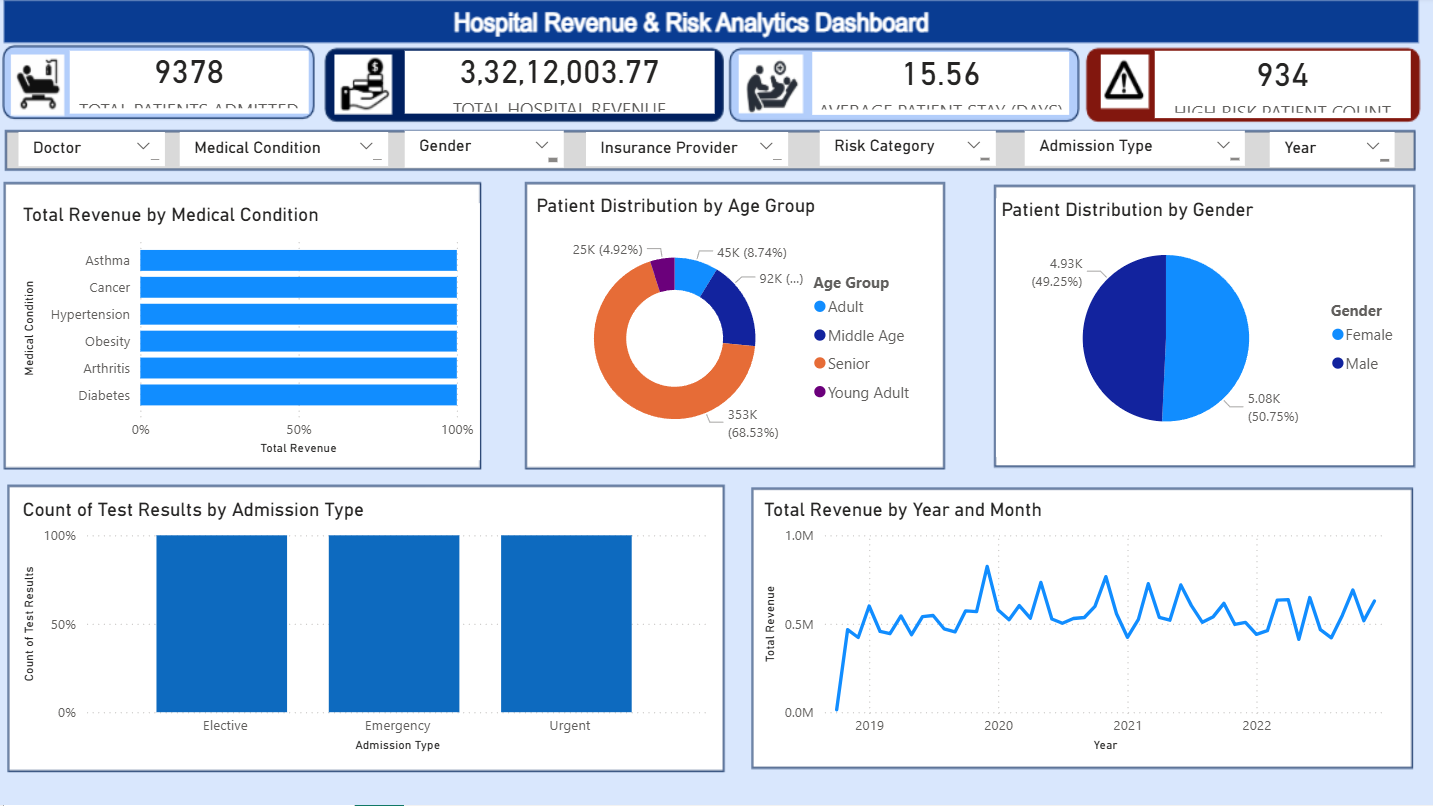

The page's visual inventory and layout, read from the dashboard file:
{"tool":"powerbi","page":{"name":" Hospital Revenue & Risk Analytics Project _Dashboard","canvas":[1280,720],"ordinal":0},"visuals":[{"type":"card","fields":{"Values":["Count(Hospital_cleaned_dataset.  Name)"]},"box":[65.9,48,212.7,56.3],"z":0},{"type":"card","fields":{"Values":["Sum(Hospital_cleaned_dataset. Revenue Per Day)"]},"box":[363.6,48,275.8,56.3],"z":1000},{"type":"card","fields":{"Values":["Avg(Hospital_cleaned_dataset. Length of Stay)"]},"box":[727.3,49.4,229.2,56.3],"z":2000},{"type":"card","fields":{"Values":["Count(Hospital_cleaned_dataset)"]},"box":[1031.9,48,227.8,60.4],"z":3000},{"type":"slicer","fields":{"Values":["Hospital_cleaned_dataset.Doctor"]},"box":[20.6,120.8,130.4,30.2],"z":4000},{"type":"slicer","fields":{"Values":["Hospital_cleaned_dataset.Medical Condition"]},"box":[163.3,120.8,185.2,30.2],"z":5000},{"type":"slicer","fields":{"Values":["Hospital_cleaned_dataset.Gender"]},"box":[363.6,119.4,141.3,32.9],"z":6000},{"type":"slicer","fields":{"Values":["Hospital_cleaned_dataset.Insurance Provider"]},"box":[525.6,120.8,179.8,30.2],"z":7000},{"type":"slicer","fields":{"Values":["Hospital_cleaned_dataset.Risk Category"]},"box":[734.1,119.4,156.4,31.6],"z":8000},{"type":"slicer","fields":{"Values":["Hospital_cleaned_dataset.Admission Type"]},"box":[916.6,119.4,196.2,31.6],"z":9000},{"type":"hundredPercentStackedBarChart","fields":{"Category":["Hospital_cleaned_dataset.Medical Condition"],"Y":["Sum(Hospital_cleaned_dataset. Revenue Per Day)"]},"box":[19.2,183.9,411.7,229.2],"z":10000},{"type":"donutChart","fields":{"Category":["Hospital_cleaned_dataset.Age Group"],"Y":["Sum(Hospital_cleaned_dataset.Age)"]},"box":[476.2,175.6,351.3,237.4],"z":11000},{"type":"pieChart","fields":{"Category":["Hospital_cleaned_dataset.Gender"],"Y":["CountNonNull(Hospital_cleaned_dataset.  Name)"]},"box":[890.6,179.8,369.1,230.5],"z":12000},{"type":"hundredPercentStackedColumnChart","fields":{"Y":["CountNonNull(Hospital_cleaned_dataset.Test Results)"],"Category":["Hospital_cleaned_dataset.Admission Type"]},"box":[19.2,446,620.2,230.5],"z":13000},{"type":"lineChart","fields":{"Category":["Query1.Calender.Variation.Date Hierarchy.Year","Query1.Calender.Variation.Date Hierarchy.Month"],"Y":["Sum(Hospital_cleaned_dataset. Revenue Per Day)"]},"box":[679.2,446,566.7,230.5],"z":14000},{"type":"slicer","fields":{"Values":["Query1.Calender.Variation.Date Hierarchy.Year"]},"box":[1134.8,120.8,111.1,31.6],"z":15000}]}

Visuals, with their boxes in screenshot pixels (x1, y1, x2, y2), scaled from the page's 1280x720 canvas onto the 1433x806 screenshot:
card - Count(Hospital_cleaned_dataset.  Name): BBox(74, 54, 312, 117)
card - Sum(Hospital_cleaned_dataset. Revenue Per Day): BBox(407, 54, 716, 117)
card - Avg(Hospital_cleaned_dataset. Length of Stay): BBox(814, 55, 1071, 118)
card - Count(Hospital_cleaned_dataset): BBox(1155, 54, 1410, 121)
slicer - Hospital_cleaned_dataset.Doctor: BBox(23, 135, 169, 169)
slicer - Hospital_cleaned_dataset.Medical Condition: BBox(183, 135, 390, 169)
slicer - Hospital_cleaned_dataset.Gender: BBox(407, 134, 565, 170)
slicer - Hospital_cleaned_dataset.Insurance Provider: BBox(588, 135, 790, 169)
slicer - Hospital_cleaned_dataset.Risk Category: BBox(822, 134, 997, 169)
slicer - Hospital_cleaned_dataset.Admission Type: BBox(1026, 134, 1246, 169)
hundredPercentStackedBarChart - Hospital_cleaned_dataset.Medical Condition x Sum(Hospital_cleaned_dataset. Revenue Per Day): BBox(21, 206, 482, 462)
donutChart - Hospital_cleaned_dataset.Age Group x Sum(Hospital_cleaned_dataset.Age): BBox(533, 197, 926, 462)
pieChart - Hospital_cleaned_dataset.Gender x CountNonNull(Hospital_cleaned_dataset.  Name): BBox(997, 201, 1410, 459)
hundredPercentStackedColumnChart - CountNonNull(Hospital_cleaned_dataset.Test Results) x Hospital_cleaned_dataset.Admission Type: BBox(21, 499, 716, 757)
lineChart - Query1.Calender.Variation.Date Hierarchy.Year x Query1.Calender.Variation.Date Hierarchy.Month: BBox(760, 499, 1395, 757)
slicer - Query1.Calender.Variation.Date Hierarchy.Year: BBox(1270, 135, 1395, 171)
